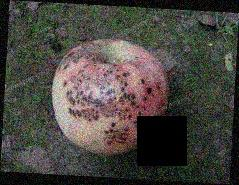rotten apple: (49, 40, 176, 159)
